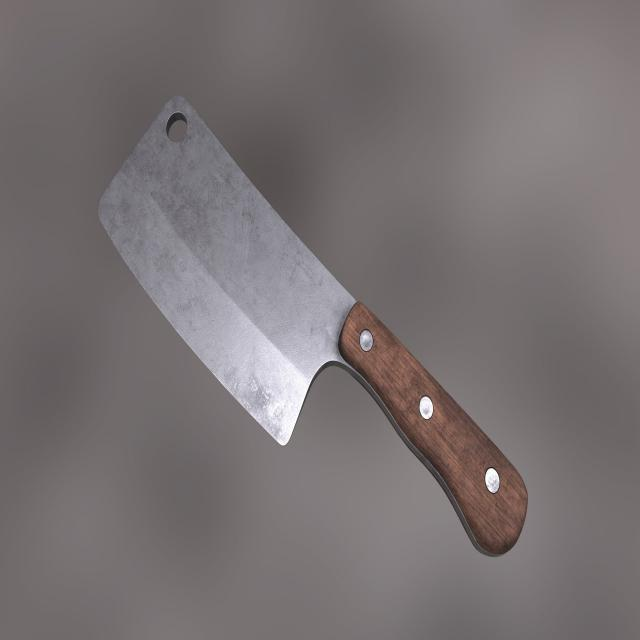cleaver: (103, 96, 528, 554)
